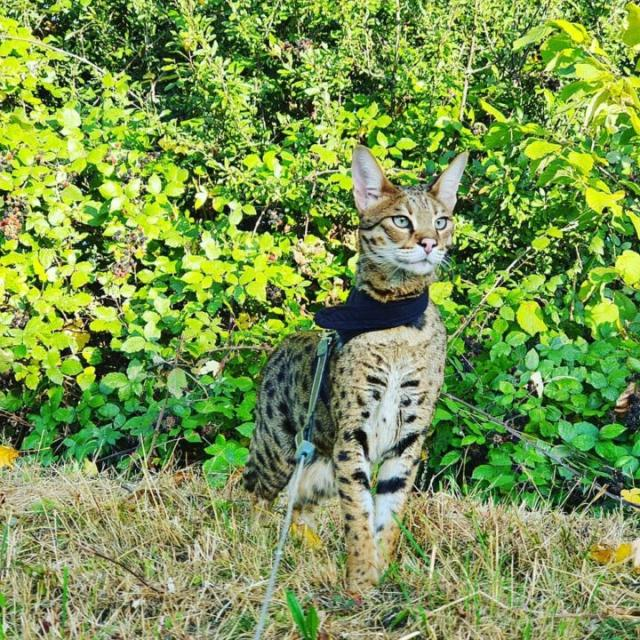Savannah: (226, 145, 474, 610)
